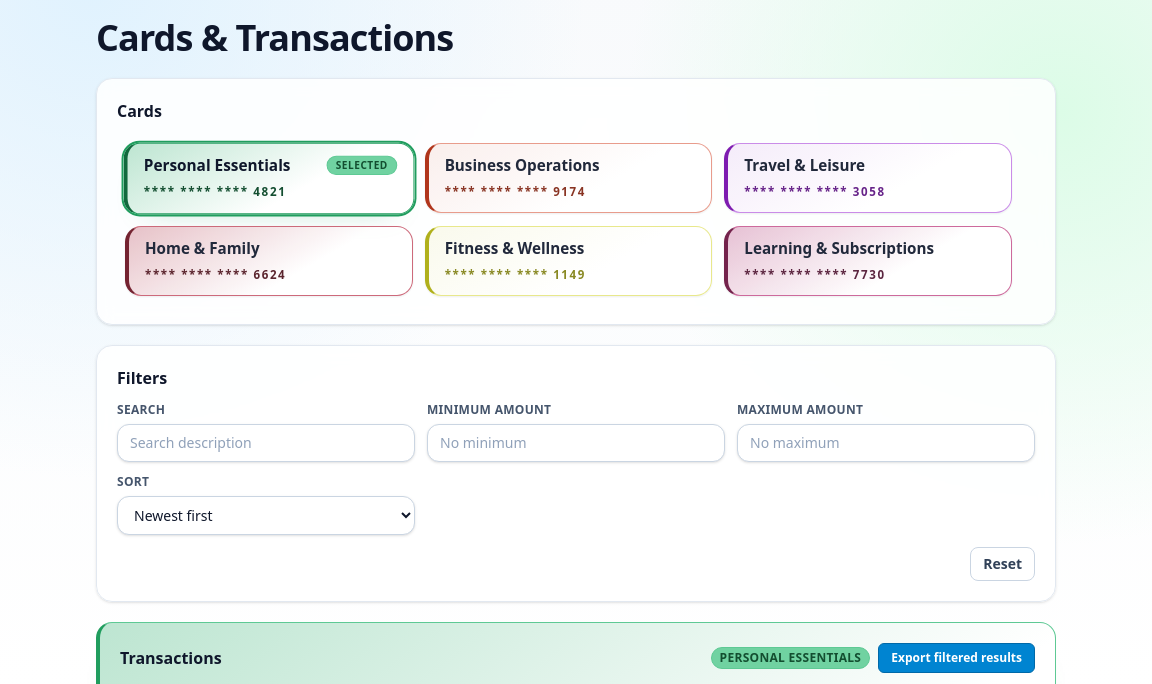
Test case: CardsOverview integration › clears active chips and restores results via clear all
Type "coffee" into the field labelled "Search" at (266, 443), box [117,424,415,462]
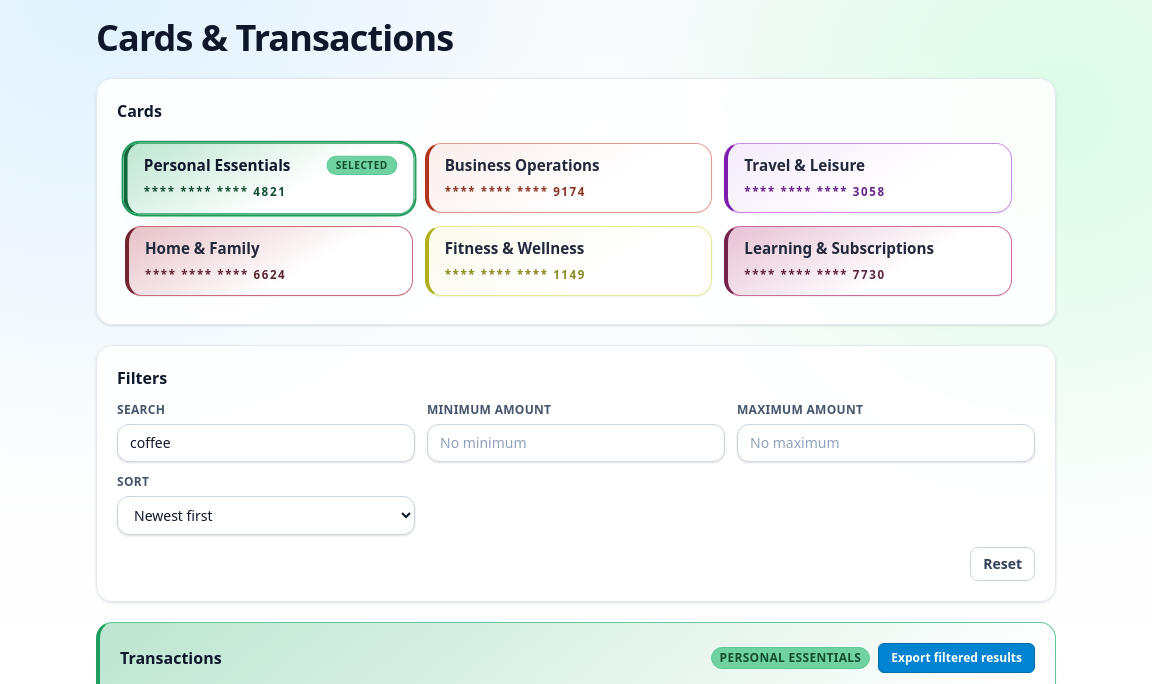
Type "10" into the number field labelled "Minimum amount" at (576, 443), box [427,424,725,462]
(page scrolled)
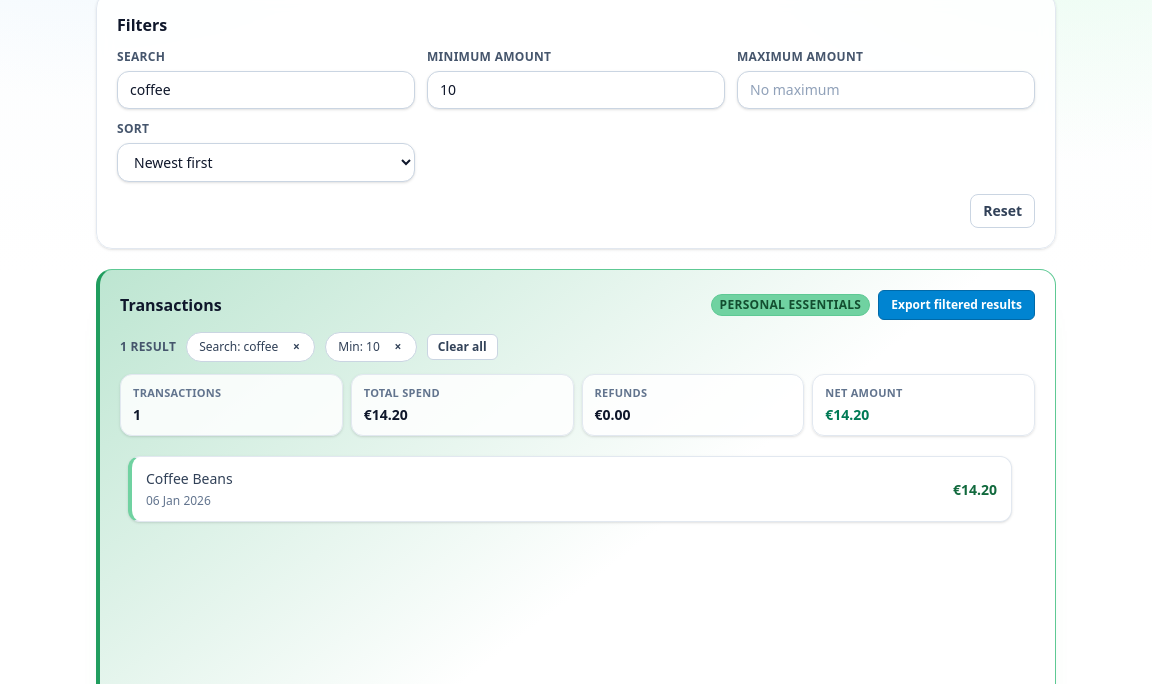
Result: the text "Min: 10" is shown at [338,339,380,355]
Click the button "Clear all" at (462, 347), box [427,334,498,360]
(page scrolled)
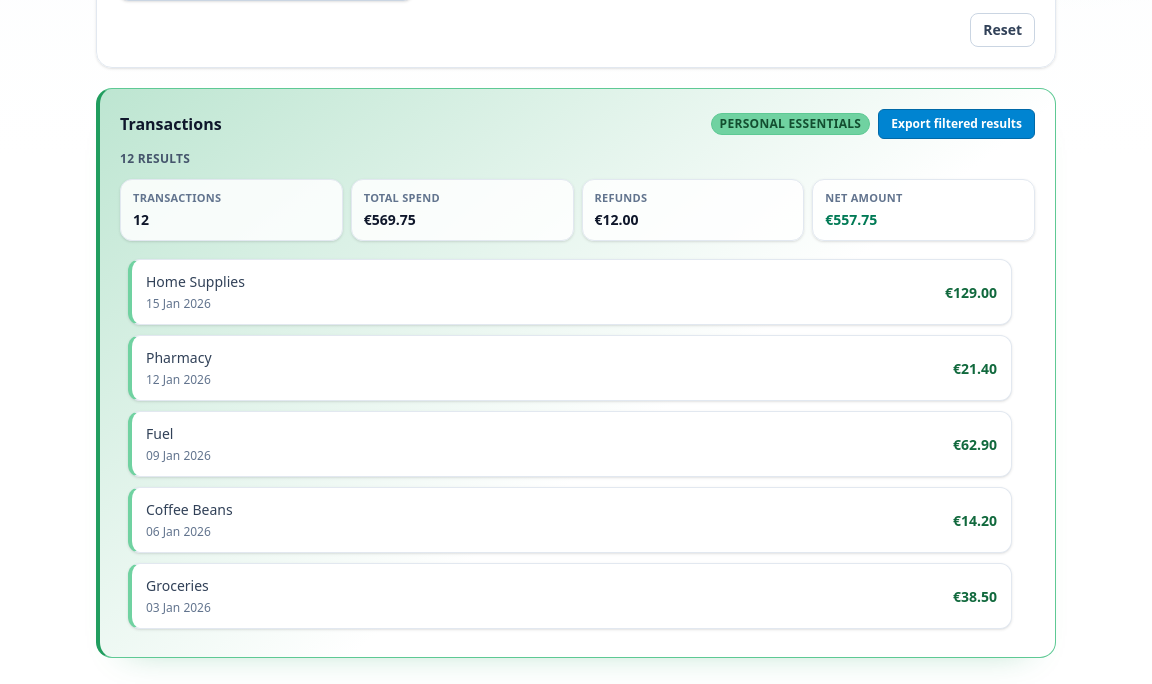
Result: the text "Search: coffee" is gone
Result: the text "Min: 10" is gone
Result: the text "12 results" is shown at [120,151,190,167]
